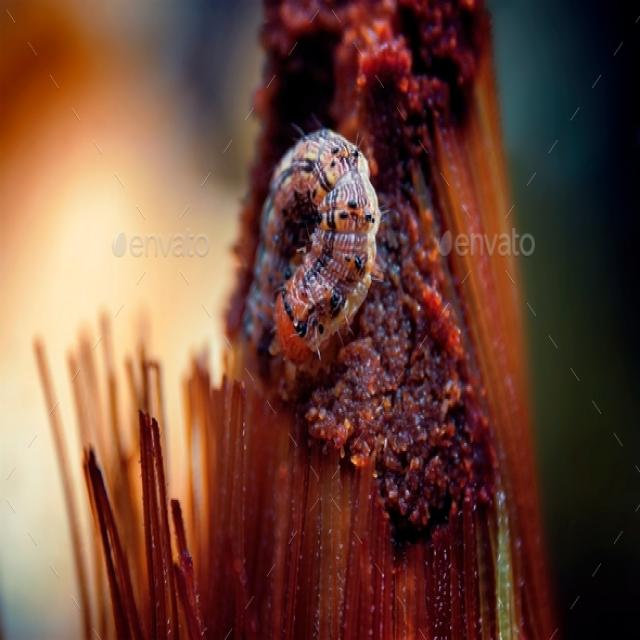cornborer-Larva-: (234, 111, 386, 370)
